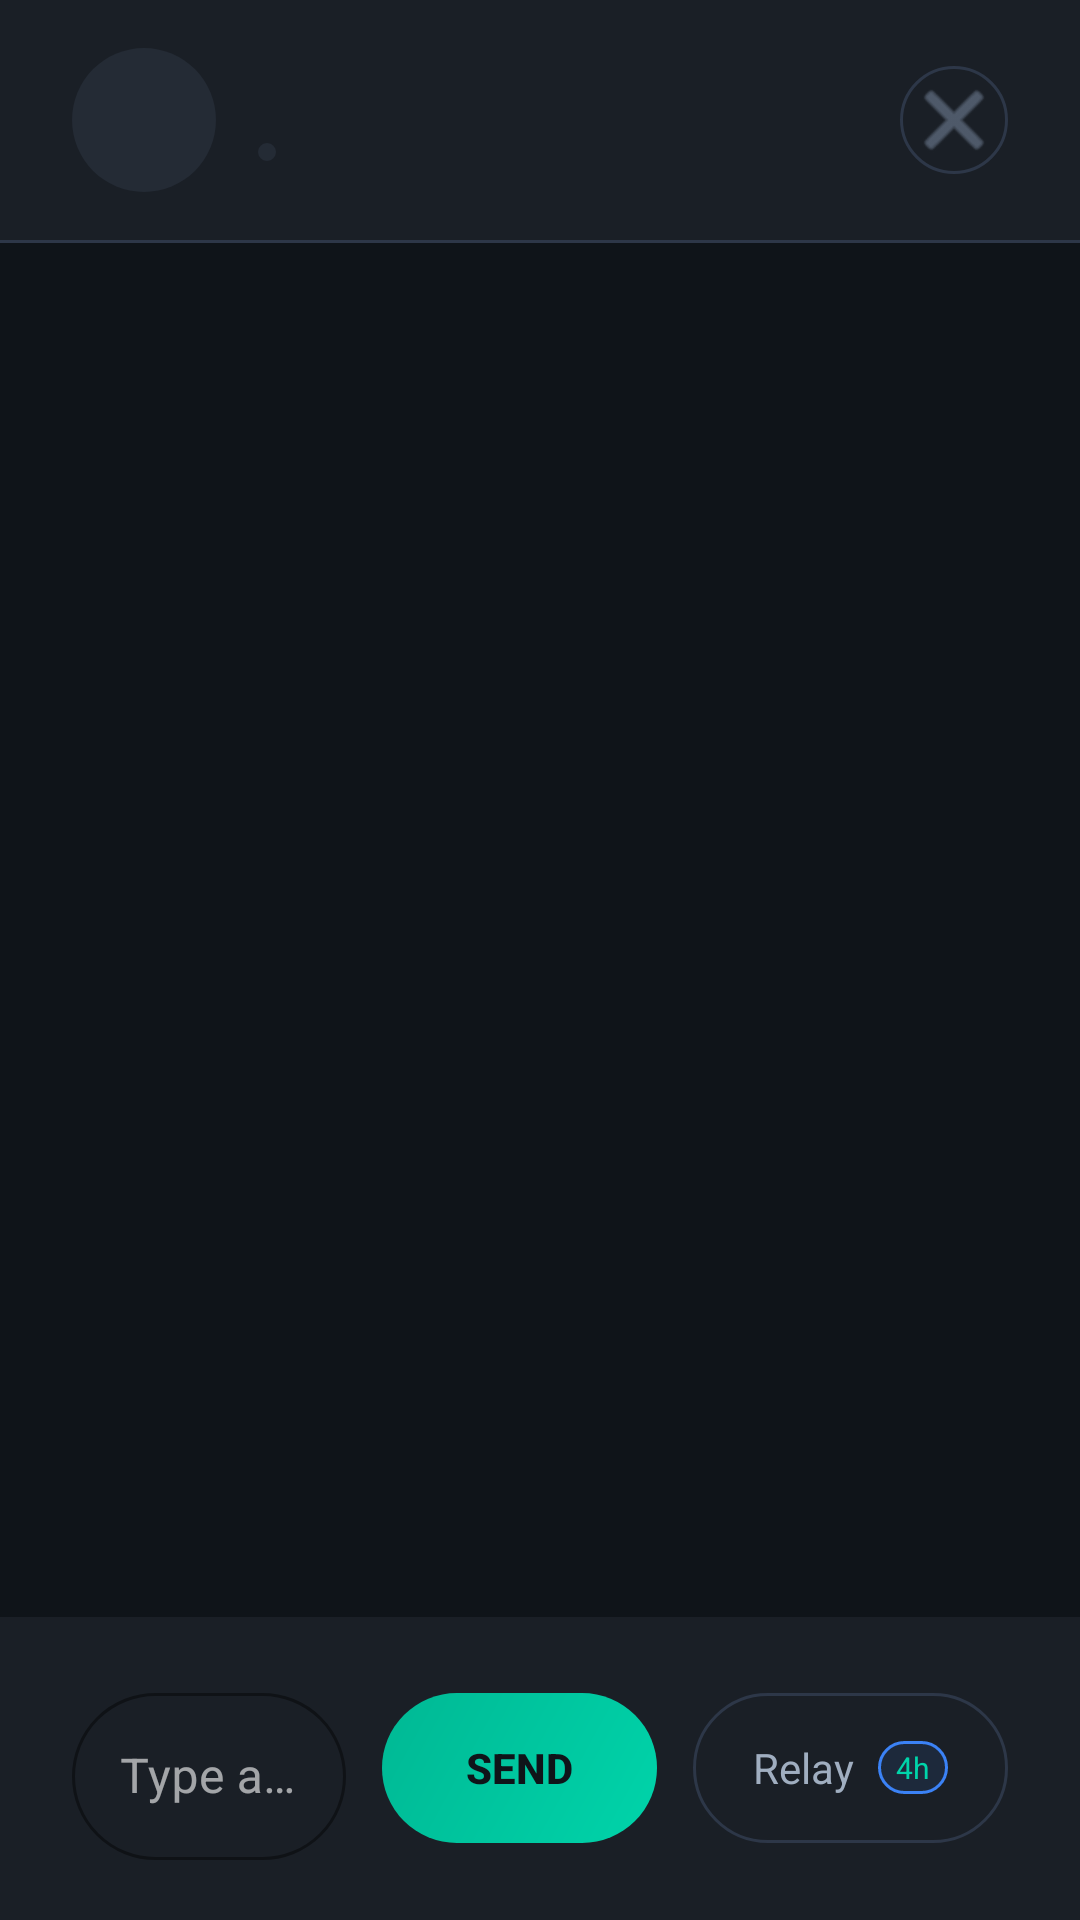

Point at icon controls on the screen. Image size 1080 x 1920, points as (x,y).
Close chat: (954,120)
